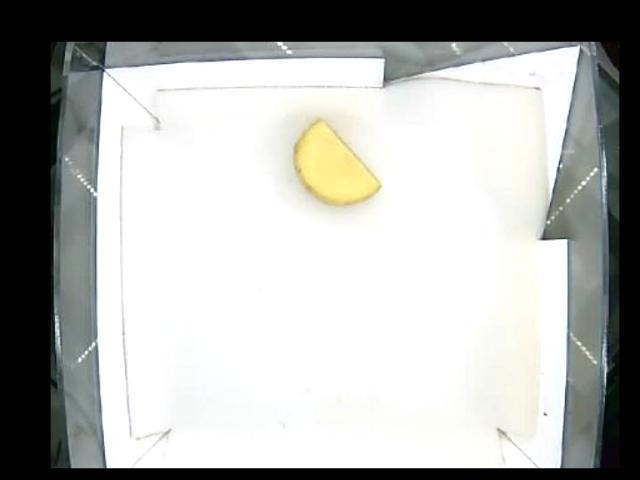Potato: (291, 119, 384, 203)
